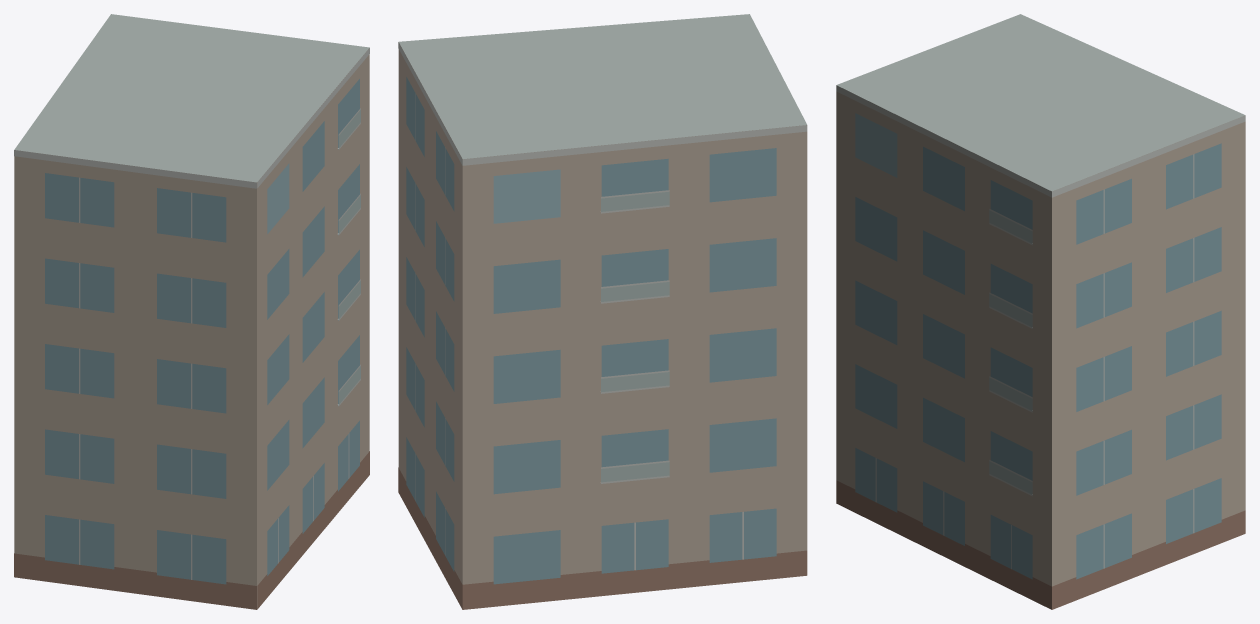
File: survey-upis-32687676.glb
3 renders of one model, left to right at view 1: azimuth 30°, elevation 25°; view 2: azimuth 150°, elevation 25°; view 3: azimuth 270°, elevation 25°, orthographic. The views are drawn at different scales.
Visible parts, largest first — view 1: survey-upis-32687676.tmp; view 2: survey-upis-32687676.tmp; view 3: survey-upis-32687676.tmp.
Part boxes in pixels (x1=…): survey-upis-32687676.tmp: x1=14, y1=14, x2=369, y2=609; survey-upis-32687676.tmp: x1=398, y1=14, x2=807, y2=609; survey-upis-32687676.tmp: x1=836, y1=14, x2=1245, y2=609.
Bounding box in the file's own units: 15.07 × 16.55 × 14.69.
